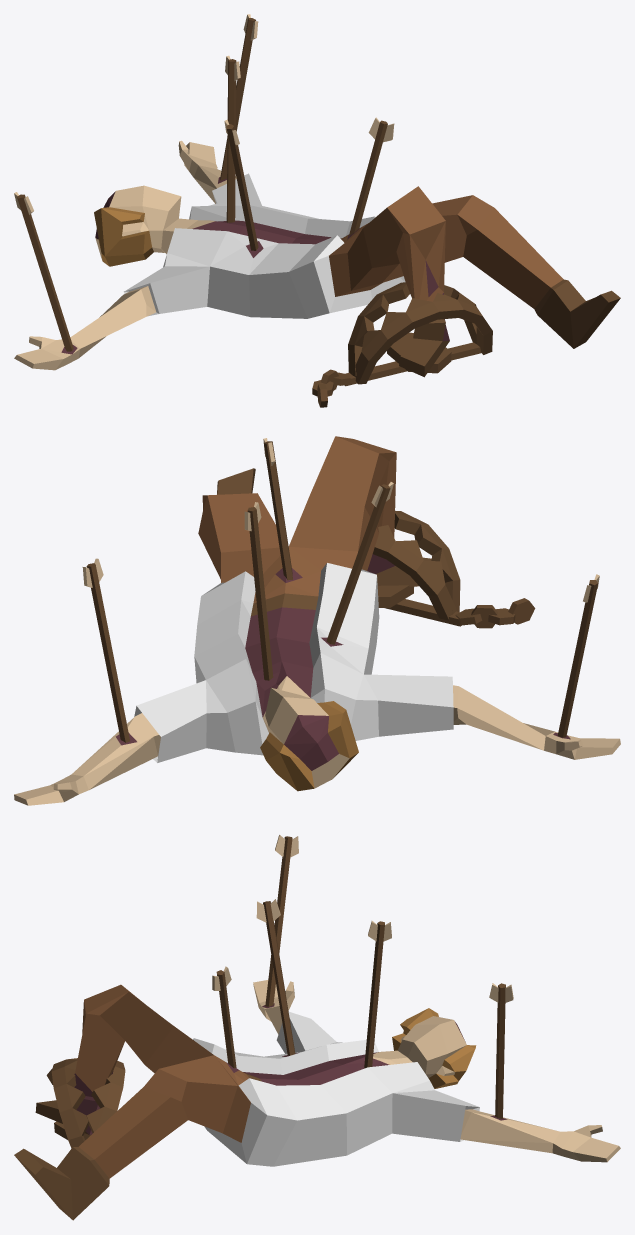
The model's file is man-pedestrian_dead-c.fbx.
The picture shows the model from 3 angles, top to bottom: view 1: azimuth 30°, elevation 25°; view 2: azimuth 150°, elevation 25°; view 3: azimuth 270°, elevation 25°; orthographic projection. The views are drawn at different scales.
Visible parts, largest first — view 1: man-pedestrian_dead-c; view 2: man-pedestrian_dead-c; view 3: man-pedestrian_dead-c.
Boxes of the visible parts, x1,y1,x2,y2 form: man-pedestrian_dead-c: (14,14,620,407); man-pedestrian_dead-c: (14,436,620,805); man-pedestrian_dead-c: (14,835,620,1220).
Bounding box in the file's own units: 1.6 × 0.684 × 1.81.
